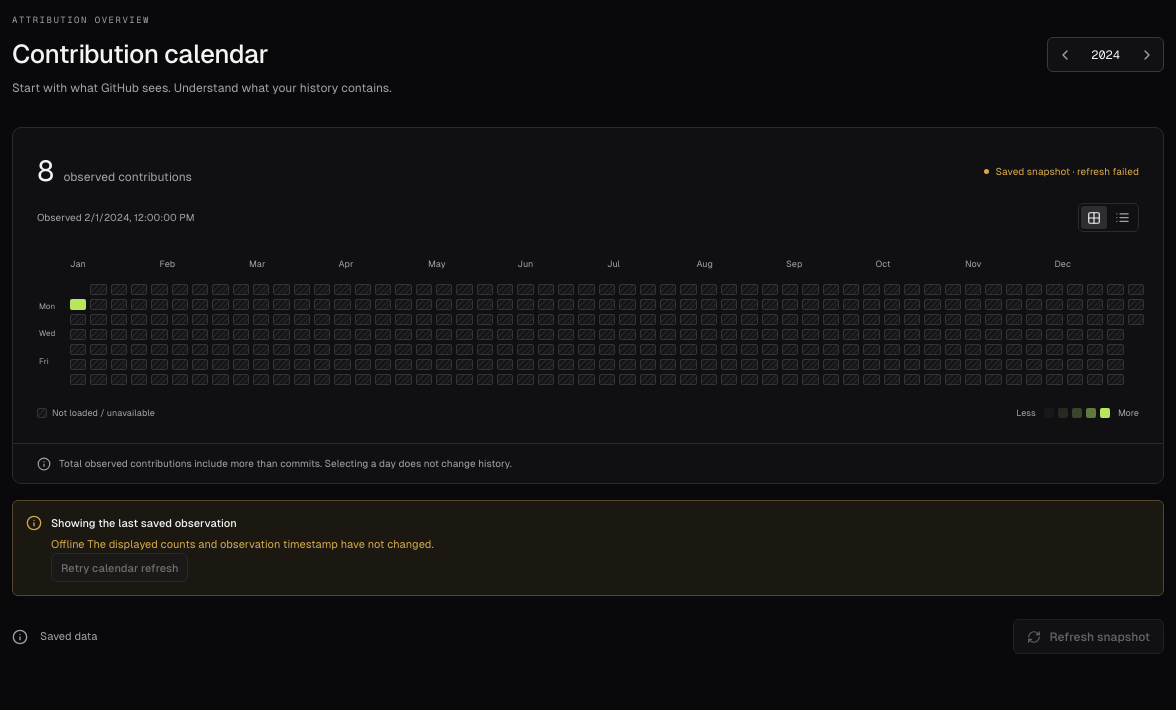
Scenario: stale validation and observation handling › retains observed counts when a day is selected and labels a stale snapshot
The image size is (1176, 710).
Step 1. Click the button named "Monday, January 1, 2024: 8 observed" → (78, 304), box [70,298,86,310]
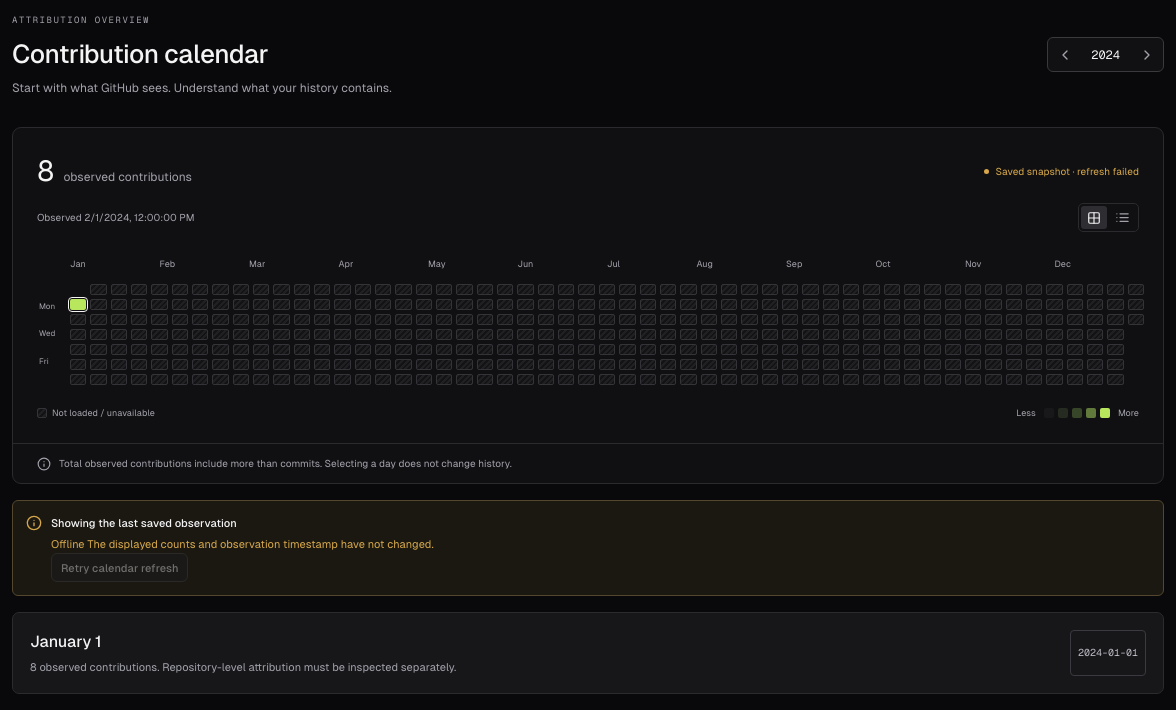
Check: the text "Saved snapshot · refresh failed" is shown, box [984,164,1139,178]
Check: the text "8 observed contributions. Repository-level" is shown, box [30,661,456,673]
